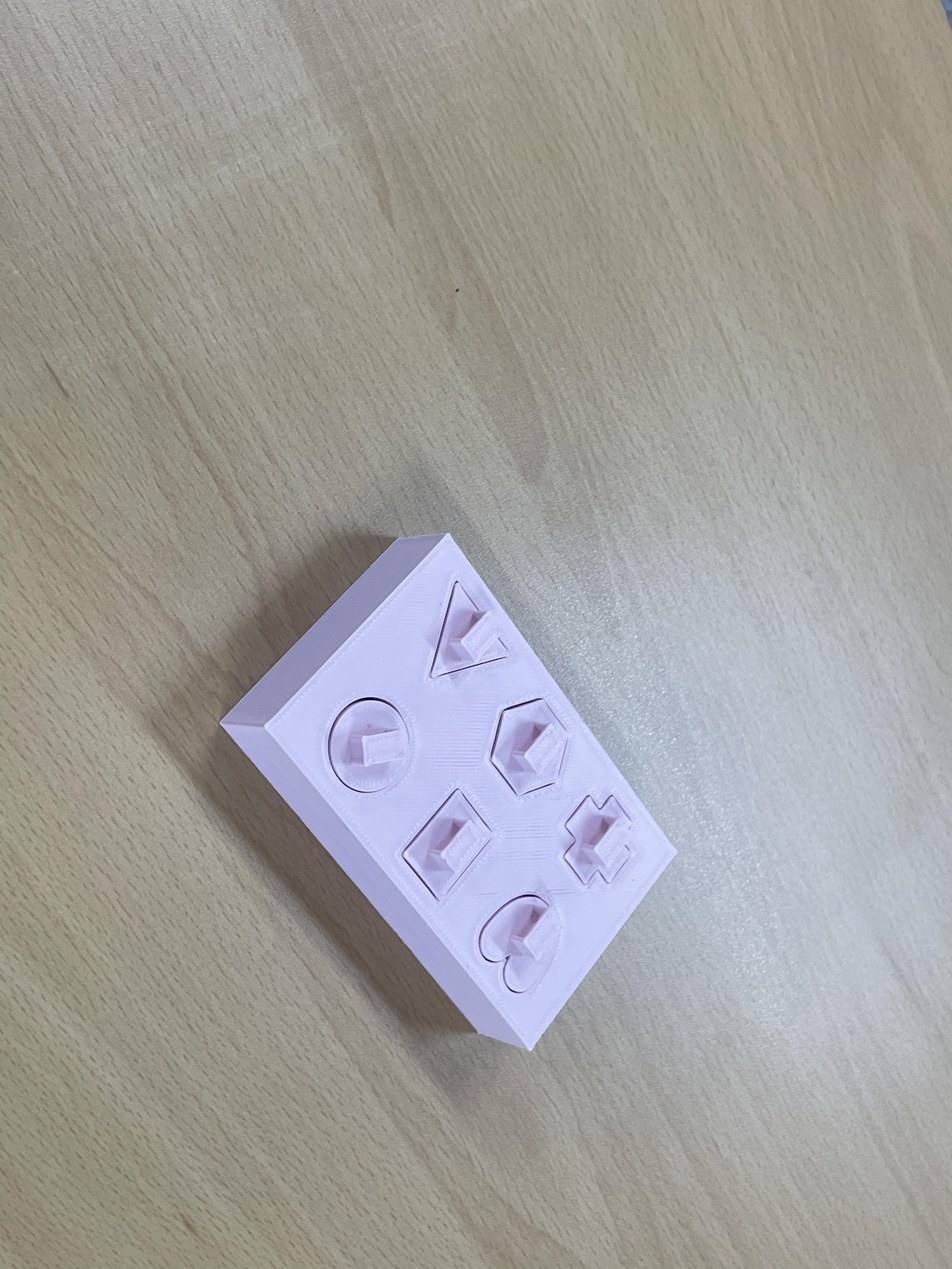solved: (211, 504, 694, 1072)
